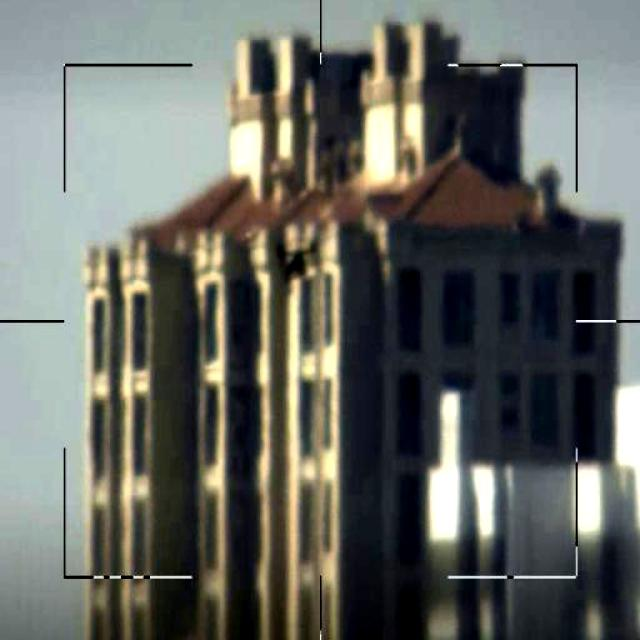bird: (269, 225, 320, 296)
